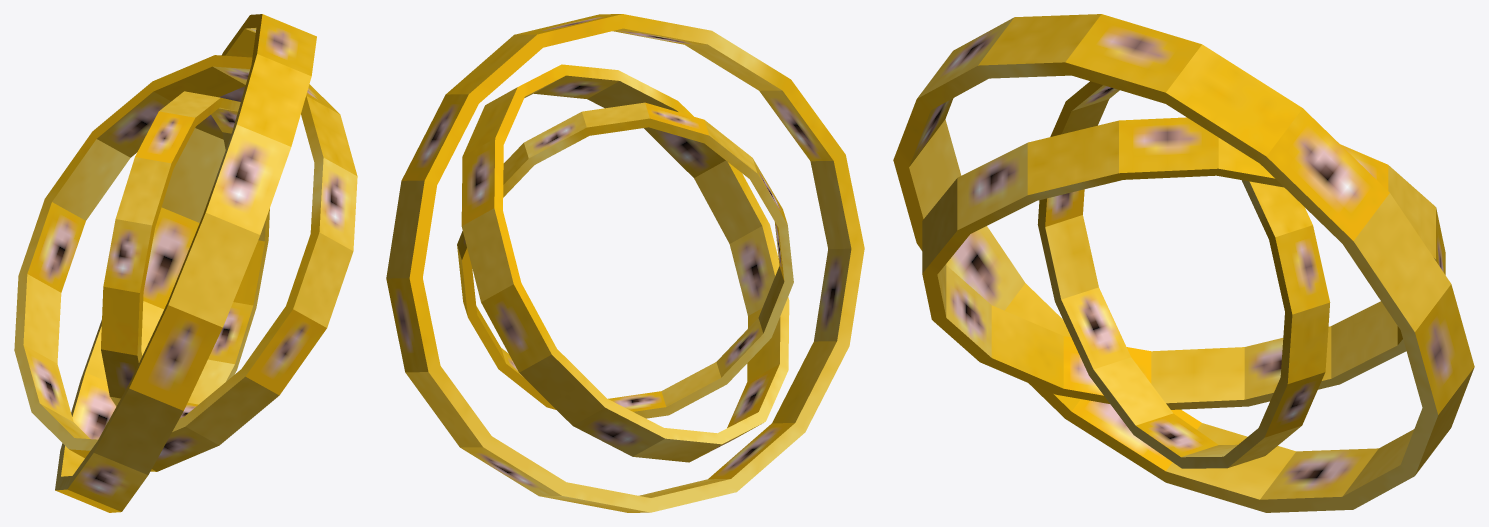
File: char_rings.glb
3 views of the same model, side by side, from view 1: azimuth 30°, elevation 25°; view 2: azimuth 150°, elevation 25°; view 3: azimuth 270°, elevation 25° (orthographic). The views are drawn at different scales.
Parts seen in each view (by area): view 1: Outer_Ring, Middle_Ring, Inner_Ring; view 2: Outer_Ring, Middle_Ring, Inner_Ring; view 3: Outer_Ring, Middle_Ring, Inner_Ring.
Boxes of the visible parts, x1=… form: Outer_Ring: x1=55, y1=14, x2=316, y2=512; Middle_Ring: x1=14, y1=55, x2=357, y2=471; Inner_Ring: x1=101, y1=91, x2=269, y2=418; Outer_Ring: x1=386, y1=14, x2=864, y2=512; Middle_Ring: x1=461, y1=64, x2=789, y2=462; Inner_Ring: x1=457, y1=102, x2=793, y2=418; Outer_Ring: x1=893, y1=14, x2=1474, y2=512; Middle_Ring: x1=922, y1=117, x2=1445, y2=409; Inner_Ring: x1=1037, y1=81, x2=1330, y2=468.
Bounding box in the file's own units: 1.52 × 2.01 × 1.95.
3 materials, 3 textured.
